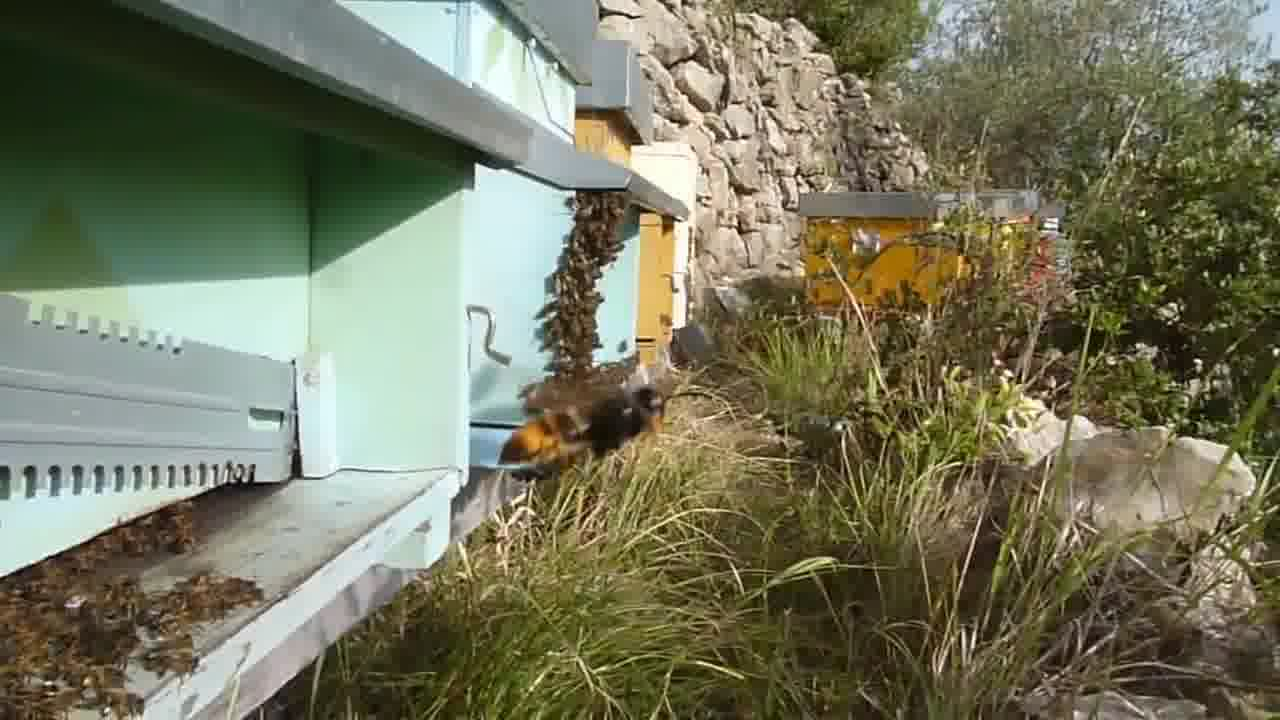bee: (1, 567, 179, 720), (542, 275, 607, 374), (552, 189, 631, 269), (112, 504, 196, 557), (178, 574, 260, 614)
hornet: (498, 377, 680, 495)
